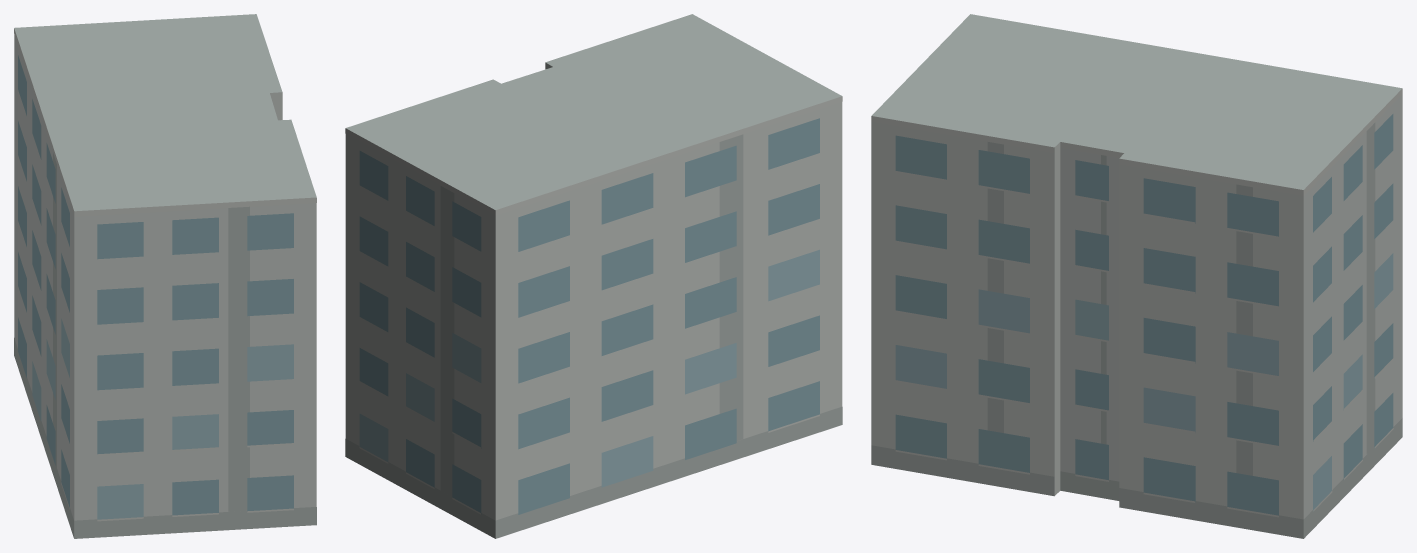
File: survey-upis-32923770.glb
3 renders of one model, left to right at view 1: azimuth 30°, elevation 25°; view 2: azimuth 150°, elevation 25°; view 3: azimuth 270°, elevation 25°, orthographic. The views are drawn at different scales.
Parts seen in each view (by area): view 1: survey-upis-32923770.tmp; view 2: survey-upis-32923770.tmp; view 3: survey-upis-32923770.tmp.
Part boxes in pixels (bbox=[...]): survey-upis-32923770.tmp: bbox=[14, 14, 316, 538]; survey-upis-32923770.tmp: bbox=[345, 14, 842, 538]; survey-upis-32923770.tmp: bbox=[871, 14, 1402, 538].
Size of the model in its own units: 15.71 by 14.5 by 20.02.
